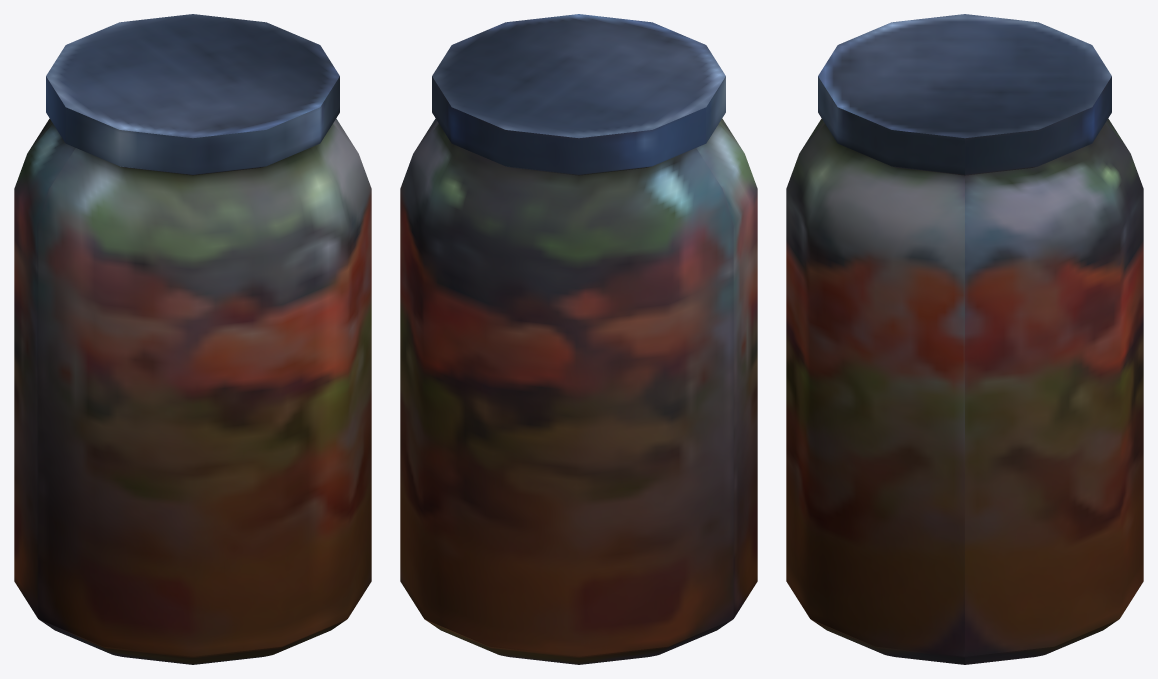
Rendered from XiuXiShi_01_guanzi_01.FBX.
3 views of the same model, side by side, from view 1: azimuth 30°, elevation 25°; view 2: azimuth 150°, elevation 25°; view 3: azimuth 270°, elevation 25° (orthographic).
Visible parts, largest first — view 1: XiuXiShi_guanzi_01; view 2: XiuXiShi_guanzi_01; view 3: XiuXiShi_guanzi_01.
Boxes of the visible parts, x1,y1,x2,y2 form: XiuXiShi_guanzi_01: [14, 14, 371, 664]; XiuXiShi_guanzi_01: [400, 14, 757, 664]; XiuXiShi_guanzi_01: [786, 14, 1143, 664].
Size of the model in its own units: 80.7 by 132 by 80.7.
